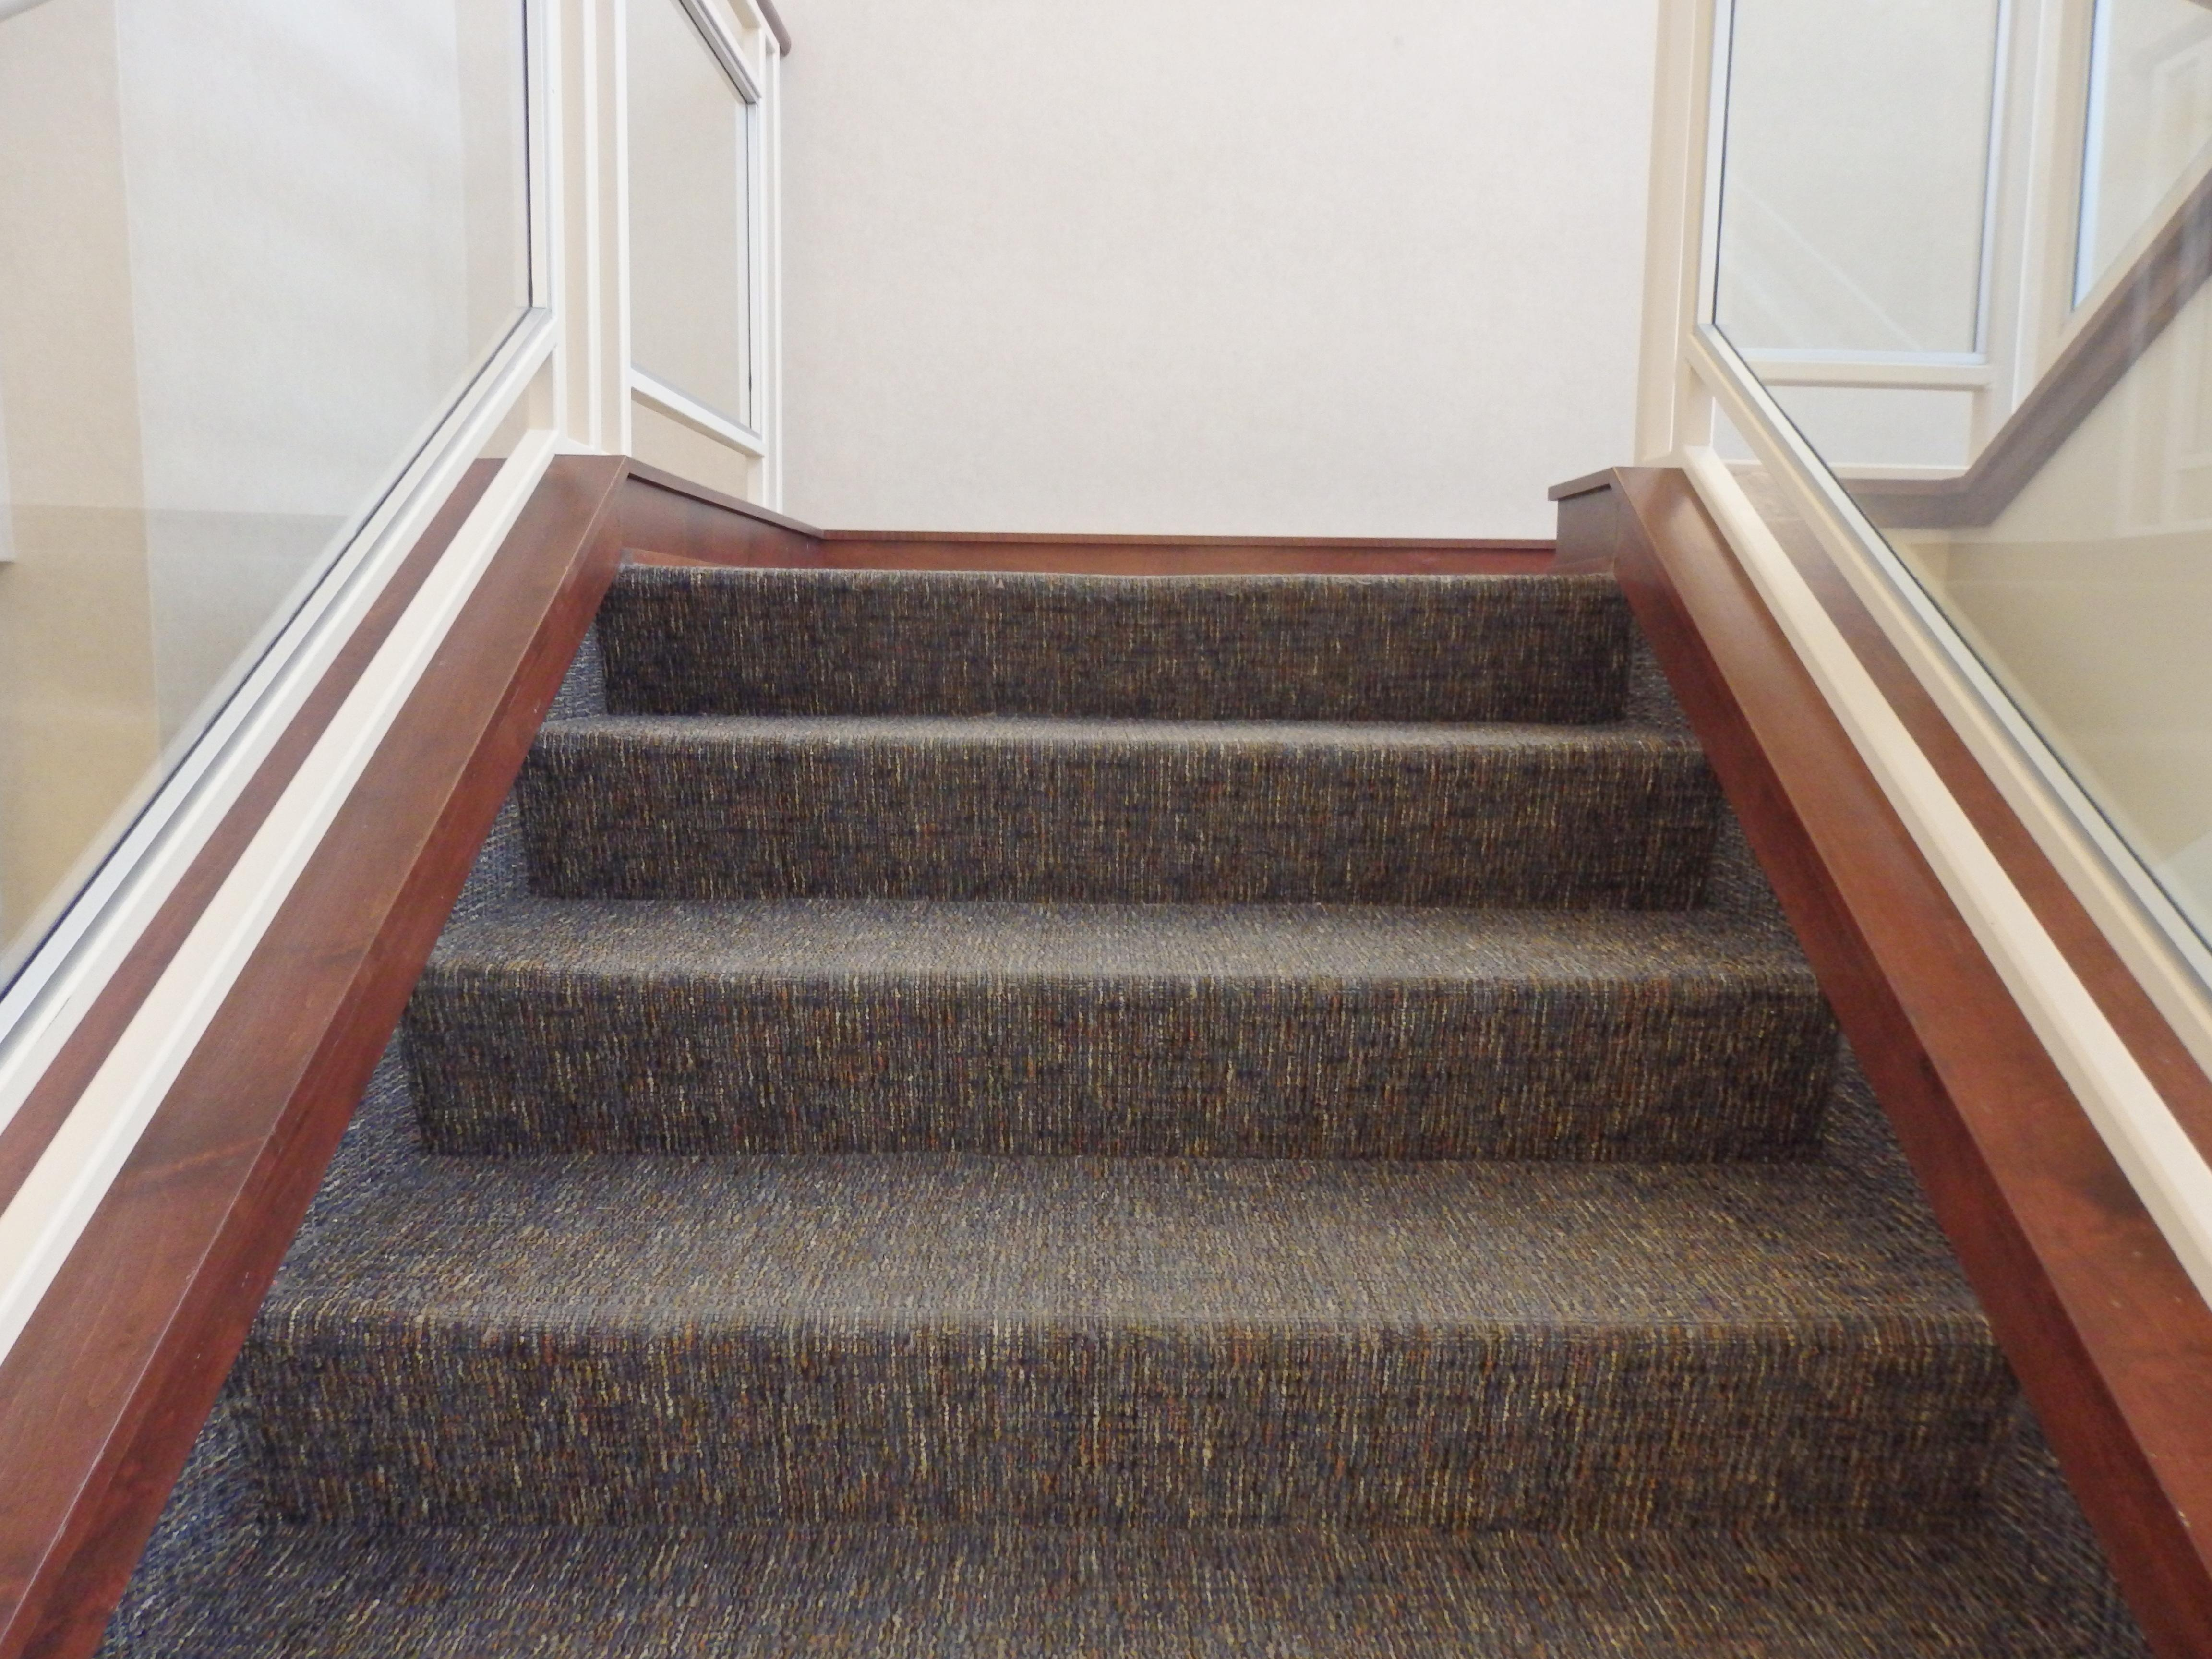stairs_up: (320, 525, 1984, 1443)
